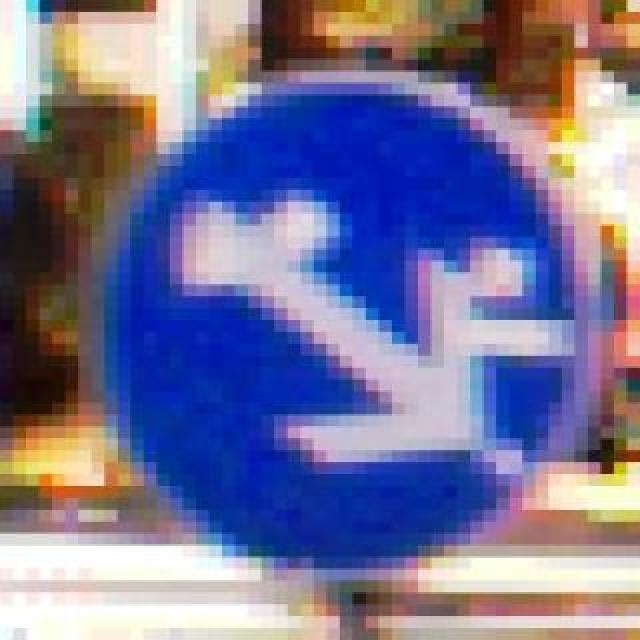keep right: (78, 48, 574, 592)
